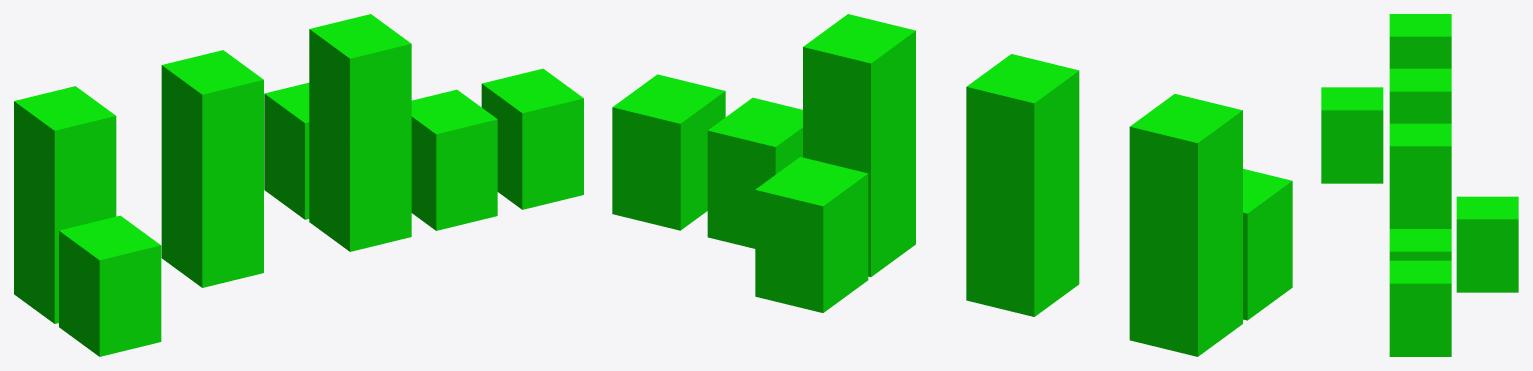
The model's file is portable-draco.glb.
3 renders of one model, left to right at view 1: azimuth 30°, elevation 25°; view 2: azimuth 150°, elevation 25°; view 3: azimuth 270°, elevation 25°, orthographic. The views are drawn at different scales.
Parts seen in each view (by area): view 1: Together (×7); view 2: Together (×7); view 3: Together (×7).
Part boxes in pixels (x1,y1,x2,y2): Together (×7): (14, 14, 583, 356); Together (×7): (612, 14, 1292, 356); Together (×7): (1321, 14, 1518, 356).
Size of the model in its own units: 86 by 30 by 36.52.
